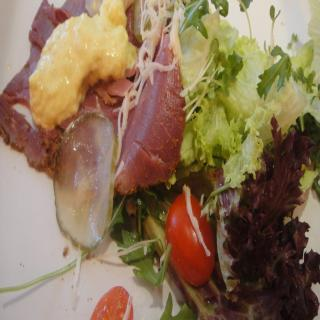tomato: (167, 182, 220, 283), (90, 284, 134, 319)
